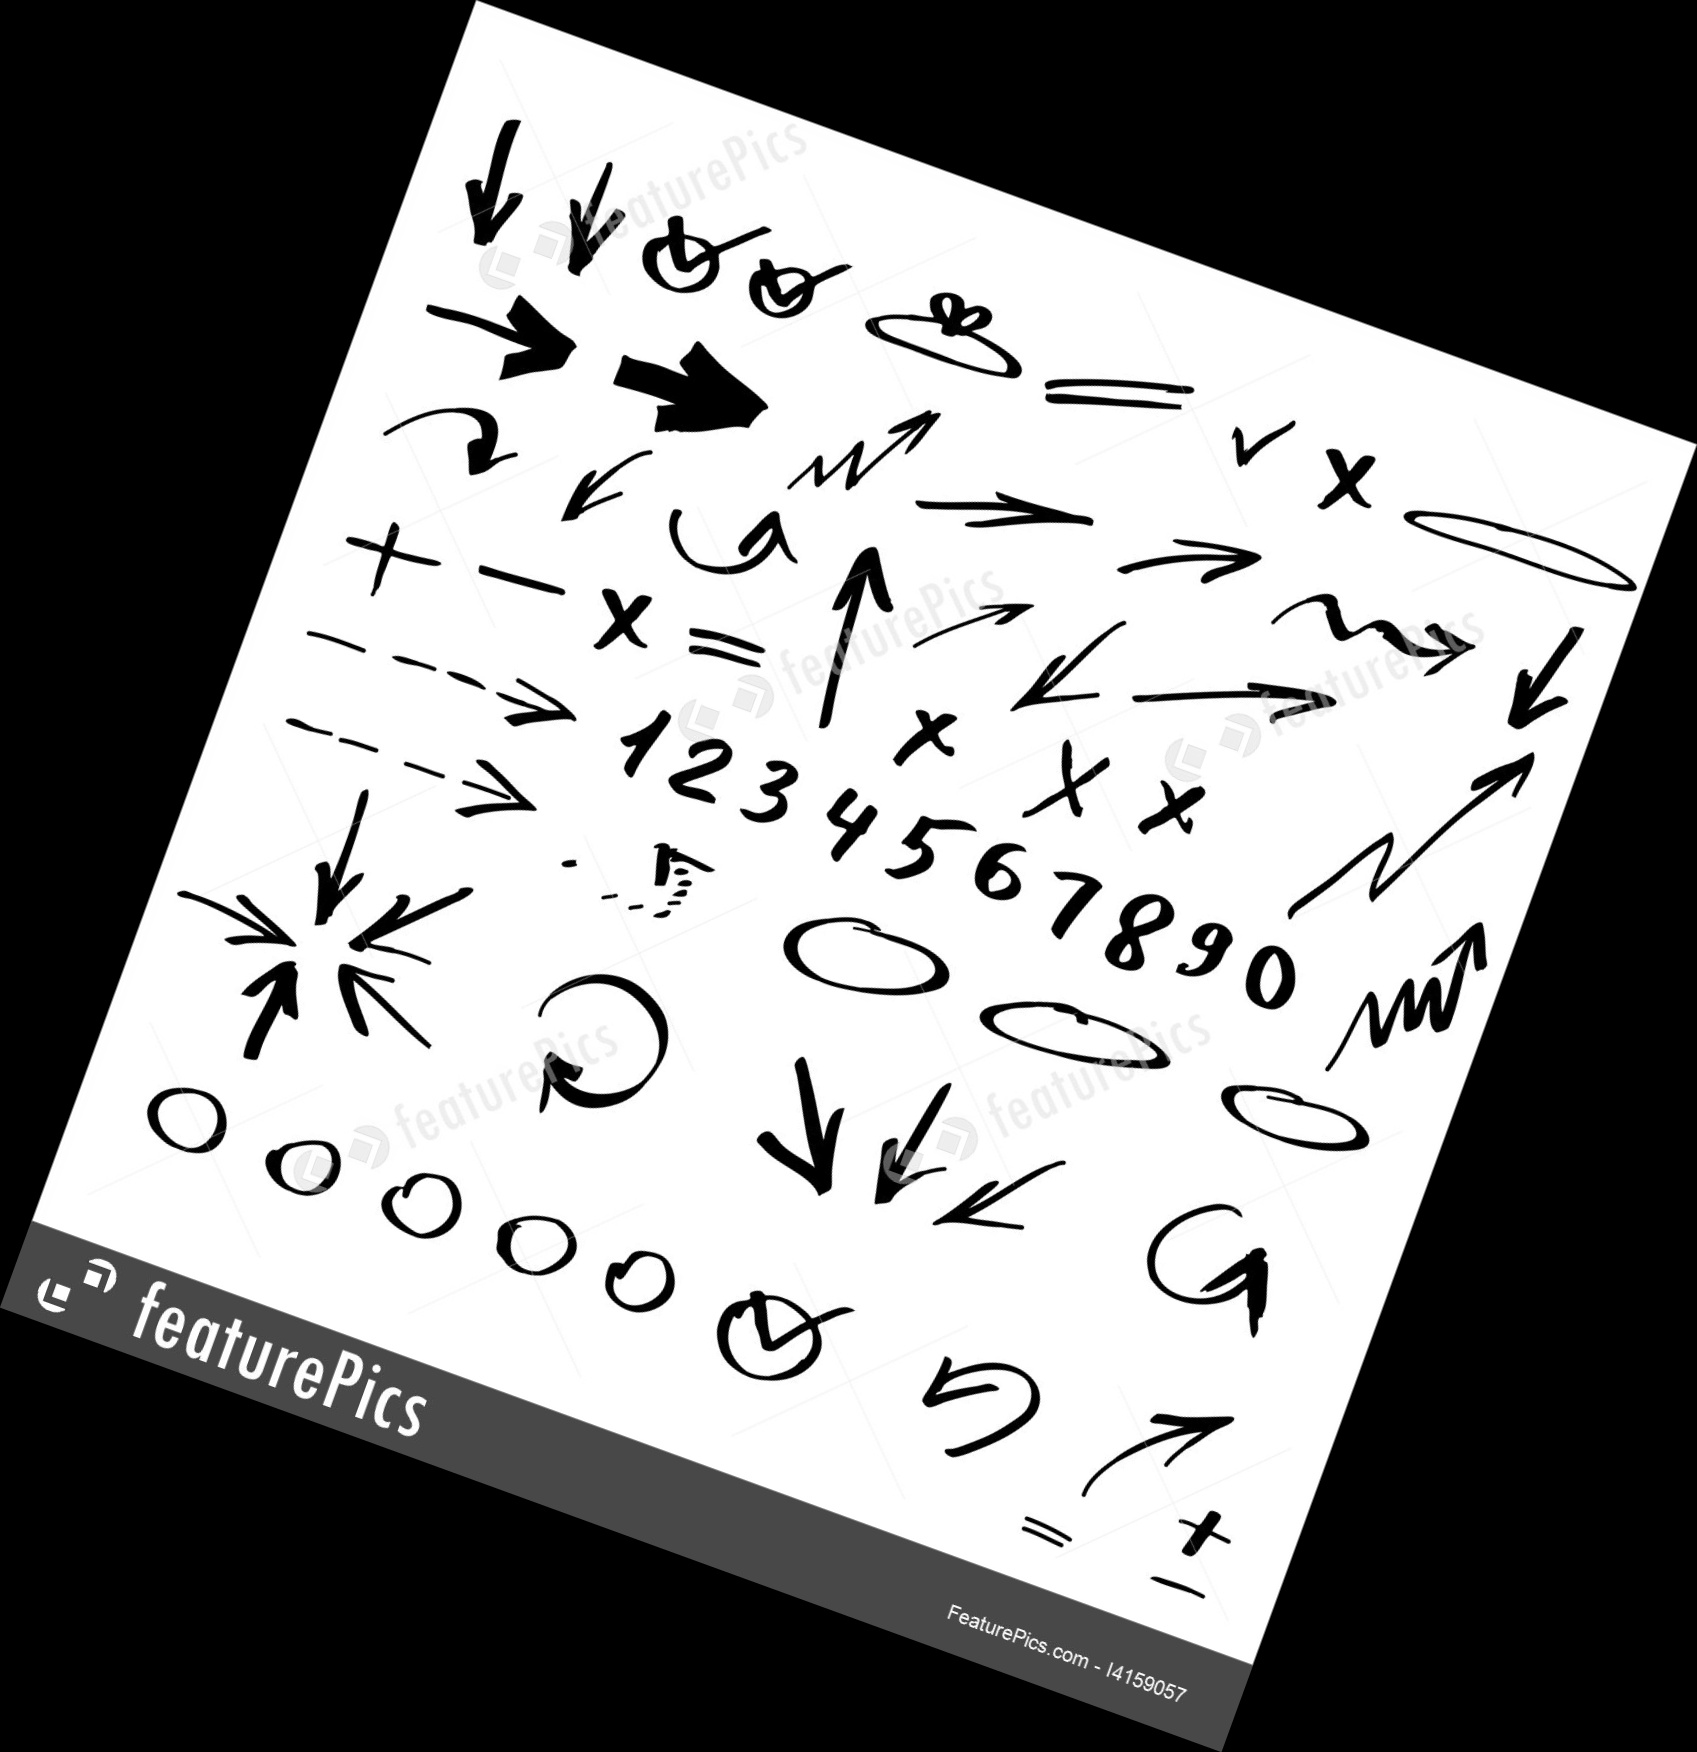arrow: (457, 282, 582, 396), (393, 740, 544, 834), (754, 1082, 848, 1208), (527, 1040, 648, 1136), (436, 659, 588, 734), (935, 480, 1100, 549), (824, 541, 898, 695), (863, 1090, 954, 1212), (1203, 668, 1361, 737), (1110, 1392, 1239, 1477), (1178, 1236, 1281, 1341), (1007, 634, 1128, 718), (932, 1151, 1045, 1240), (341, 893, 458, 975), (618, 834, 718, 924), (1430, 748, 1537, 831), (203, 876, 307, 957), (1146, 529, 1264, 599), (565, 167, 632, 289), (704, 502, 807, 580), (1387, 602, 1481, 688), (458, 138, 527, 252), (332, 956, 421, 1043), (557, 443, 640, 535), (915, 1336, 1010, 1413), (296, 834, 368, 929), (236, 959, 310, 1051), (865, 400, 942, 483), (447, 418, 526, 483), (940, 591, 1035, 641), (1436, 915, 1495, 993)
